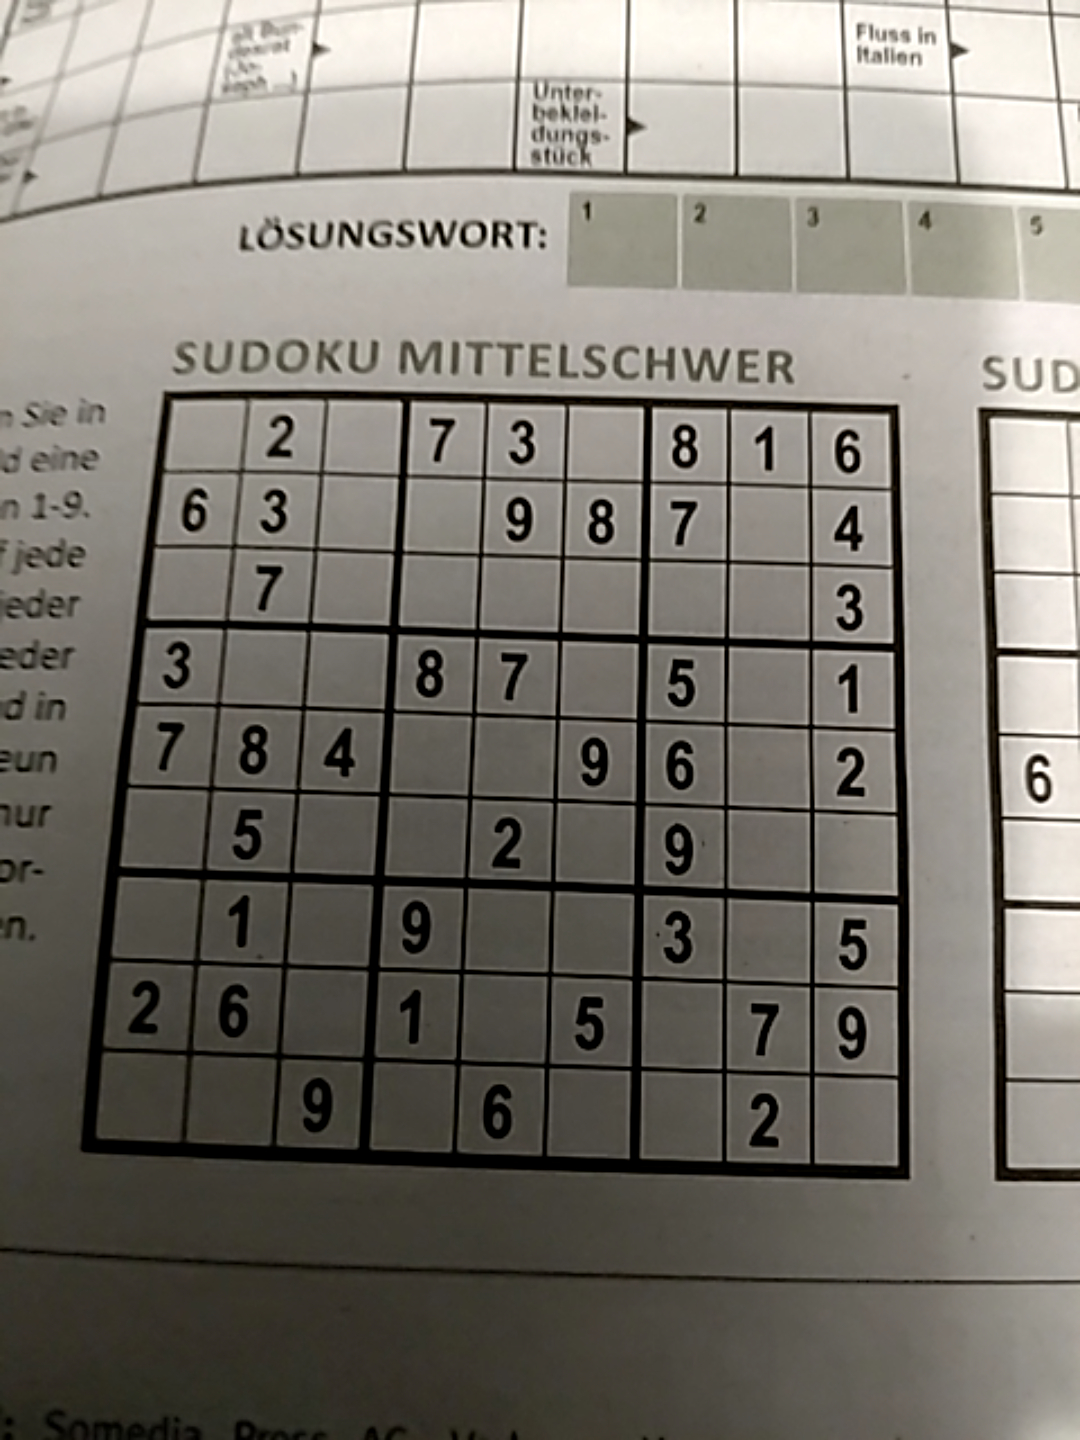sudoku: (77, 393, 916, 1189)
